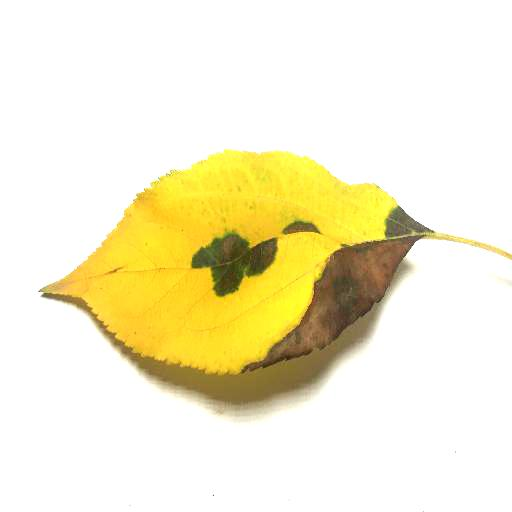Brown_Spot: (234, 239, 414, 377), (200, 244, 283, 292), (279, 213, 334, 241)
